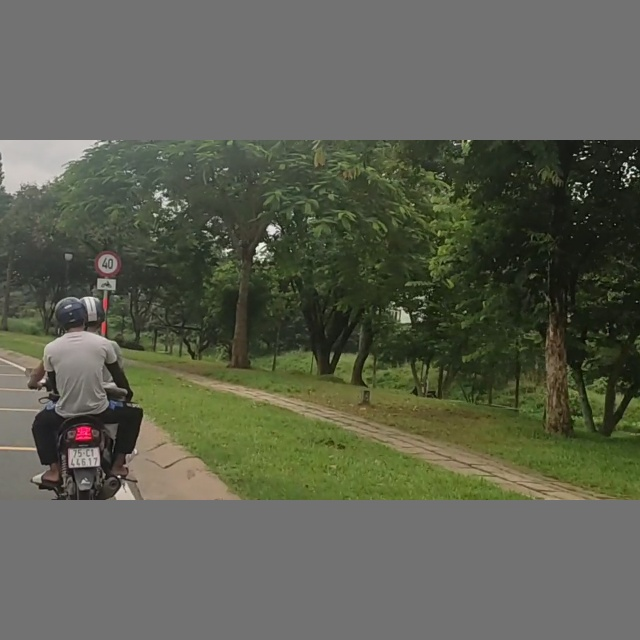P.127*40: (95, 250, 122, 277)
